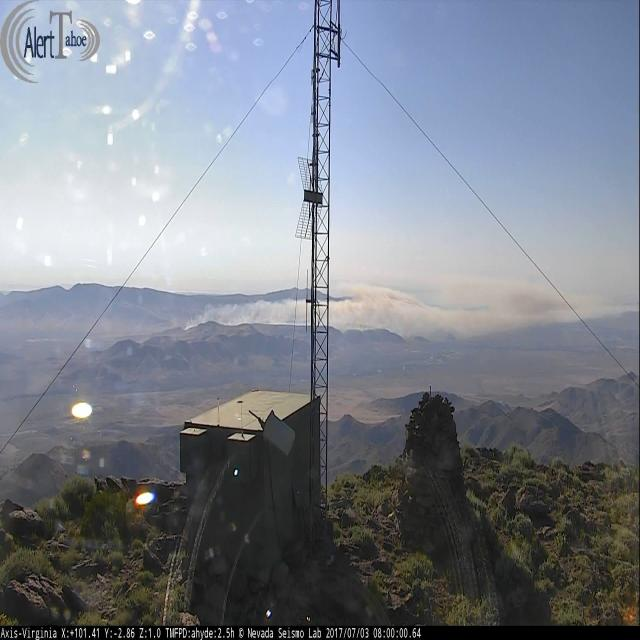smoke: (184, 296, 625, 330)
